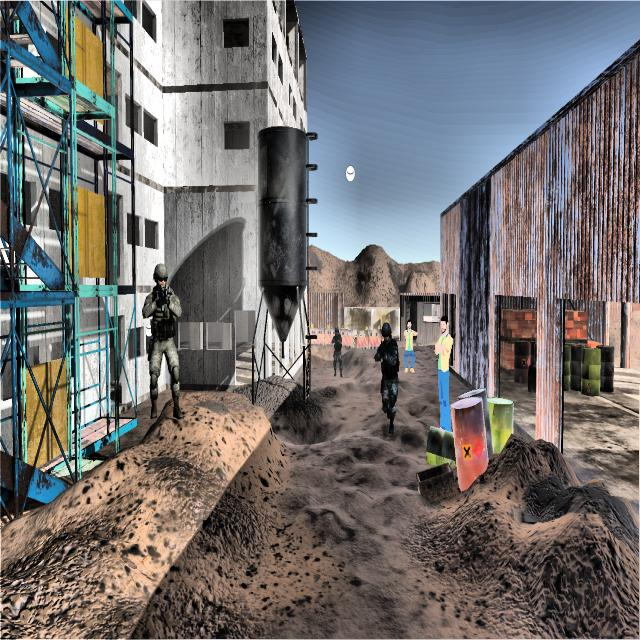bad: (133, 250, 194, 443), (377, 309, 401, 434), (327, 317, 351, 385)
good: (432, 307, 458, 442), (402, 313, 420, 380)
